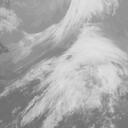cyclone: (43, 42, 104, 94)
